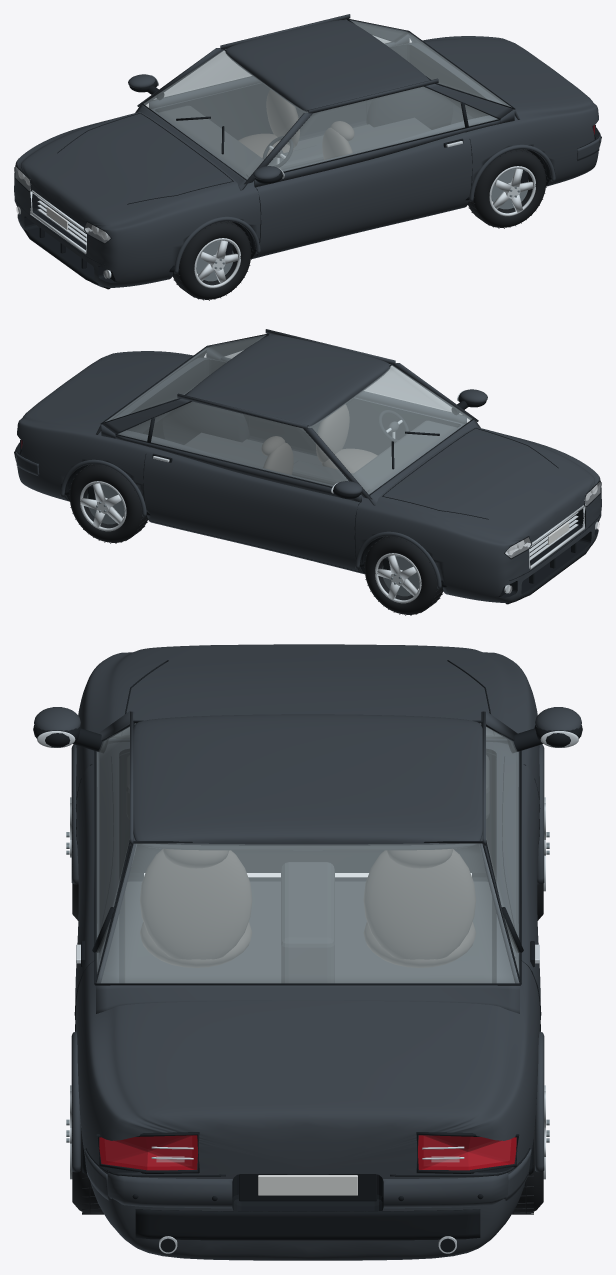
Rendered from generic-two-door-coupe.glb.
3 renders of one model, top to bottom at view 1: azimuth 30°, elevation 25°; view 2: azimuth 150°, elevation 25°; view 3: azimuth 270°, elevation 25°, orthographic. The views are drawn at different scales.
Visible parts, largest first — view 1: Original two_door_coupe fourteen-section body shell, Separate closed door panel, Crowned roof pressing, Raked transparent windscreen, Single long coupe door glass, Separate closed door panel.001, Rear transparent coupe glass, Original tyre carcass and shaped sidewalls, Original tyre carcass and shaped sidewalls.002, Wheelhouse arched liner.003, Sculpted instrument panel, Coupe door glazing shoulder (+26 smaller); view 2: Original two_door_coupe fourteen-section body shell, Separate closed door panel.001, Crowned roof pressing, Raked transparent windscreen, Single long coupe door glass.001, Separate closed door panel, Rear transparent coupe glass, Original tyre carcass and shaped sidewalls.001, Original tyre carcass and shaped sidewalls.003, Wheelhouse arched liner.002, Sculpted instrument panel, Coupe door glazing shoulder.001 (+26 smaller); view 3: Original two_door_coupe fourteen-section body shell, Rear transparent coupe glass, Crowned roof pressing, Interior carpet, Sculpted rear lower bumper insert, Contoured seat back, Contoured seat back.001, Painted rear glass sill, Formed painted rear bumper cover, Center console, Separate closed door panel.001, Separate closed door panel (+23 smaller).
Boxes of the visible parts, x1,y1,x2,y2 form: Original two_door_coupe fourteen-section body shell: (14, 36, 599, 287); Separate closed door panel: (256, 132, 472, 255); Crowned roof pressing: (225, 20, 429, 112); Raked transparent windscreen: (143, 50, 307, 179); Single long coupe door glass: (267, 86, 497, 171); Separate closed door panel.001: (157, 84, 366, 140); Rear transparent coupe glass: (350, 20, 510, 106); Original tyre carcass and shaped sidewalls: (173, 221, 251, 299); Original tyre carcass and shaped sidewalls.002: (468, 149, 546, 227); Wheelhouse arched liner.003: (366, 86, 453, 129); Sculpted instrument panel: (159, 105, 272, 177); Coupe door glazing shoulder: (254, 119, 500, 187); Original two_door_coupe fourteen-section body shell: (16, 351, 601, 602); Separate closed door panel.001: (143, 447, 359, 570); Crowned roof pressing: (186, 335, 390, 427); Raked transparent windscreen: (308, 365, 472, 494); Single long coupe door glass.001: (118, 401, 348, 486); Separate closed door panel: (249, 398, 458, 455); Rear transparent coupe glass: (105, 335, 265, 421); Original tyre carcass and shaped sidewalls.001: (364, 536, 442, 614); Original tyre carcass and shaped sidewalls.003: (69, 464, 147, 542); Wheelhouse arched liner.002: (162, 401, 249, 444); Sculpted instrument panel: (343, 420, 456, 492); Coupe door glazing shoulder.001: (115, 434, 361, 502); Original two_door_coupe fourteen-section body shell: (75, 644, 540, 1260); Rear transparent coupe glass: (97, 843, 518, 983); Crowned roof pressing: (133, 714, 482, 850); Interior carpet: (124, 881, 491, 983); Sculpted rear lower bumper insert: (135, 1209, 480, 1240); Contoured seat back: (140, 849, 252, 959); Contoured seat back.001: (363, 849, 475, 959); Painted rear glass sill: (96, 985, 519, 1013); Formed painted rear bumper cover: (107, 1173, 508, 1208); Center console: (281, 862, 334, 983); Separate closed door panel.001: (492, 756, 540, 1023); Separate closed door panel: (75, 756, 123, 1023).
Bounding box in the file's own units: 4.54 × 1.36 × 2.15.
11 materials, 11 textured.
